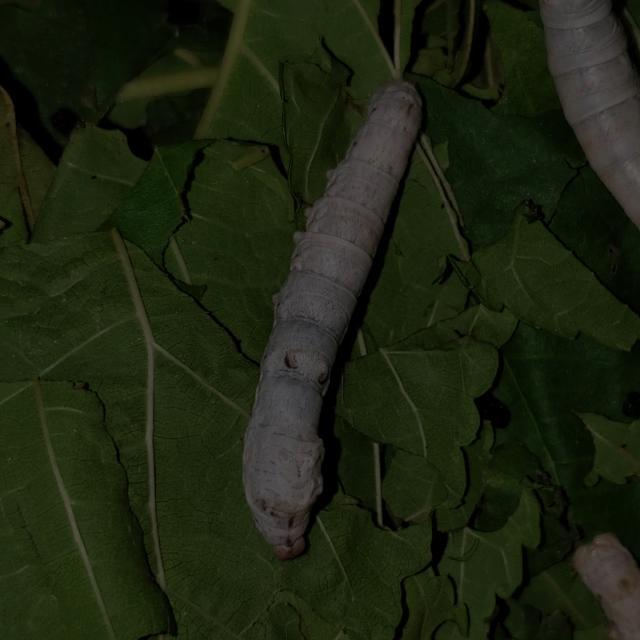Healthy: (228, 68, 428, 564)
